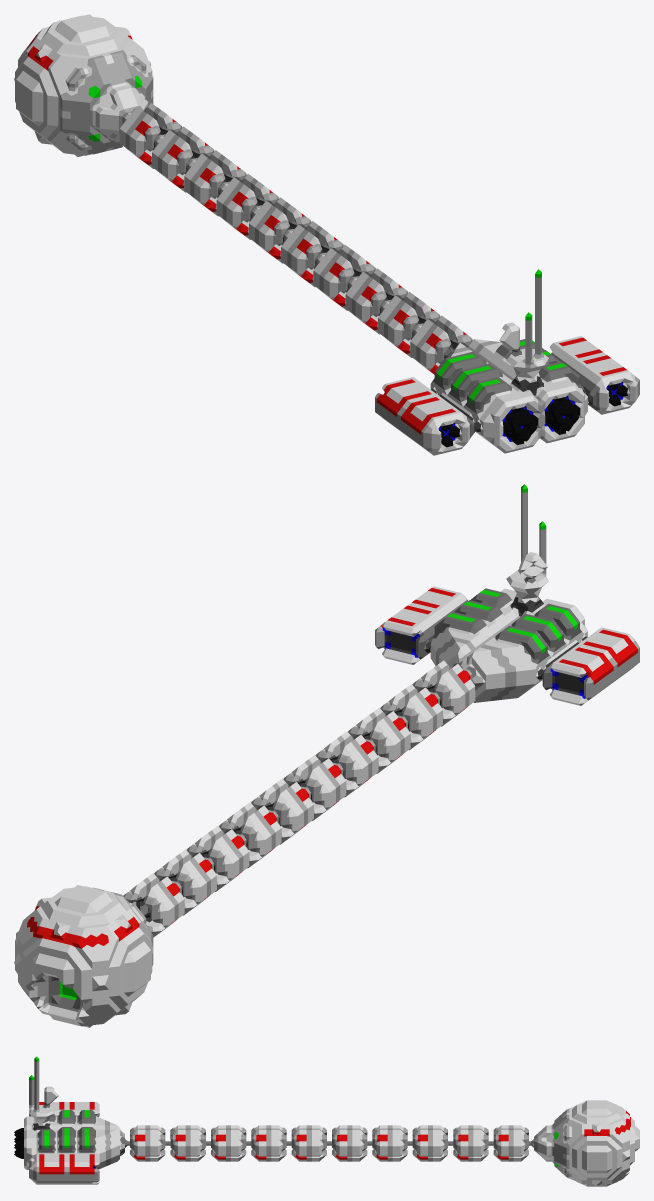
Rendered from ship_special_odyssey.fbx.
The picture shows the model from 3 angles, top to bottom: view 1: azimuth 30°, elevation 25°; view 2: azimuth 150°, elevation 25°; view 3: azimuth 270°, elevation 25°; orthographic projection. The views are drawn at different scales.
Visible parts, largest first — view 1: ship_odyssey; view 2: ship_odyssey; view 3: ship_odyssey.
Part boxes in pixels (<box>): ship_odyssey: <box>14,14,639,455</box>; ship_odyssey: <box>14,484,639,1027</box>; ship_odyssey: <box>14,1056,639,1186</box>.
Size of the model in its own units: 3100 by 2800 by 12400.
